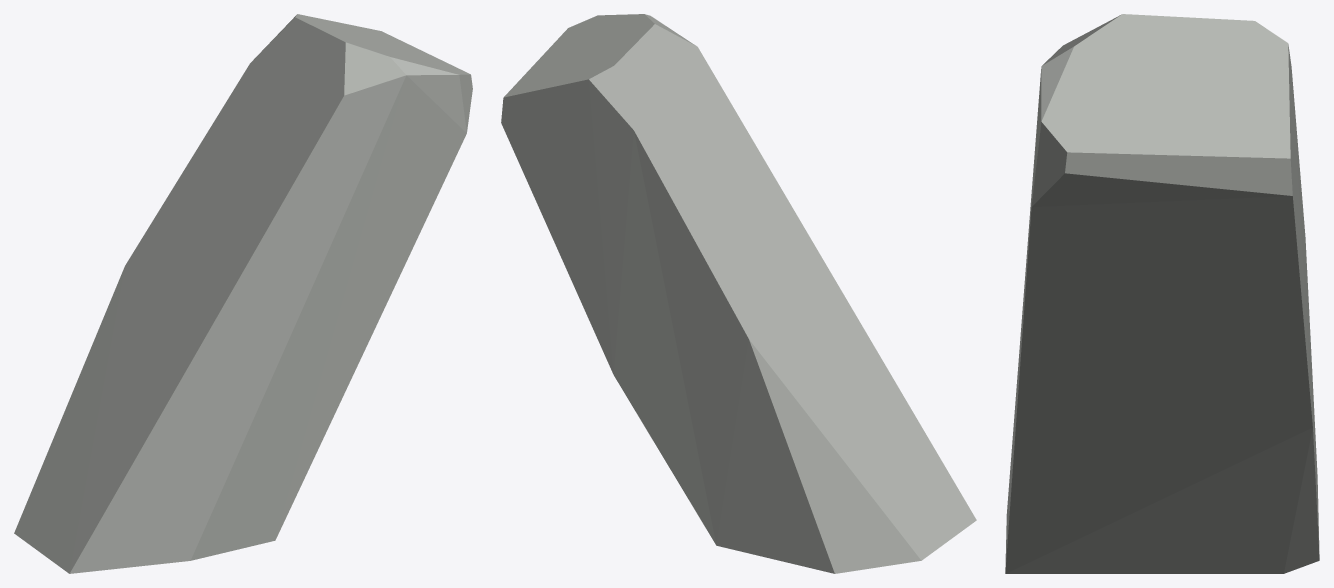
The model's file is Rock_Square_l_05.fbx.
3 views of the same model, side by side, from view 1: azimuth 30°, elevation 25°; view 2: azimuth 150°, elevation 25°; view 3: azimuth 270°, elevation 25° (orthographic). The views are drawn at different scales.
Visible parts, largest first — view 1: Rock_Square_l_05; view 2: Rock_Square_l_05; view 3: Rock_Square_l_05.
Boxes of the visible parts, x1,y1,x2,y2 form: Rock_Square_l_05: [14, 14, 472, 573]; Rock_Square_l_05: [501, 14, 976, 573]; Rock_Square_l_05: [1005, 14, 1319, 573].
Bounding box in the file's own units: 380 × 394 × 176.
